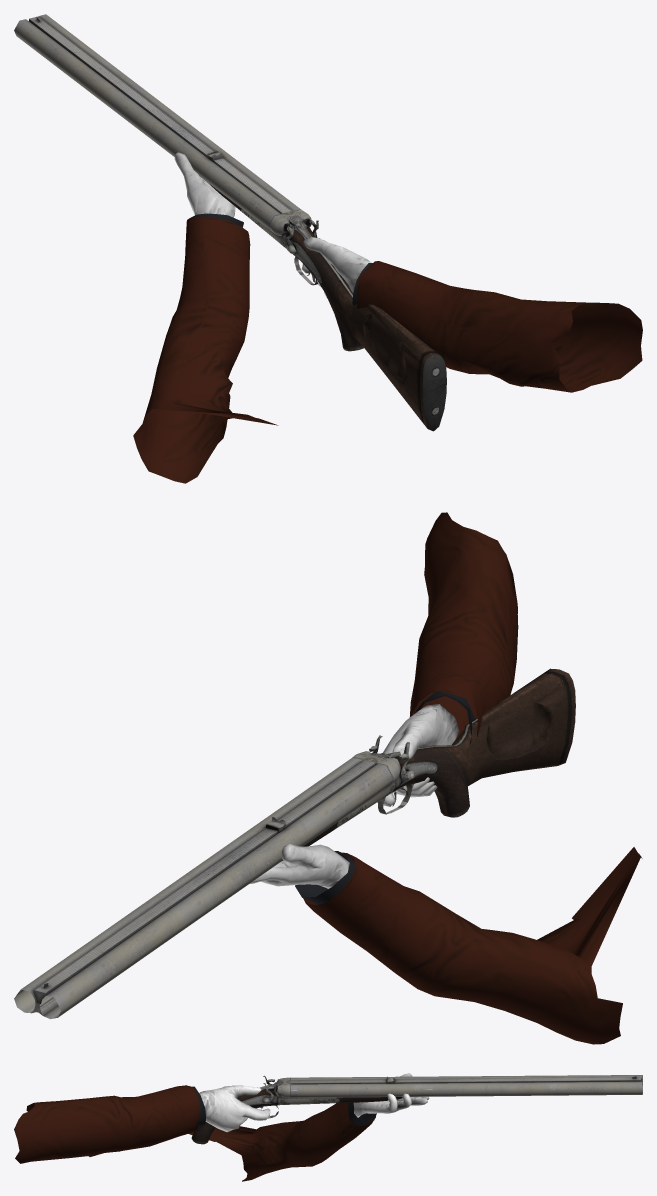
The model's file is frame_17.obj.
3 renders of one model, top to bottom at view 1: azimuth 30°, elevation 25°; view 2: azimuth 150°, elevation 25°; view 3: azimuth 270°, elevation 25°, orthographic. The views are drawn at different scales.
Parts seen in each view (by area): view 1: PlayerModelMerged.001_PlayerModelMerged, double_-_barreled_shotgun_L_double_-_barreled_shotgun_LP_к.001; view 2: PlayerModelMerged.001_PlayerModelMerged, double_-_barreled_shotgun_L_double_-_barreled_shotgun_LP_к.001; view 3: PlayerModelMerged.001_PlayerModelMerged, double_-_barreled_shotgun_L_double_-_barreled_shotgun_LP_к.001.
Part boxes in pixels (left/top/right/bottom): PlayerModelMerged.001_PlayerModelMerged: left=133, top=152, right=642, bottom=483; double_-_barreled_shotgun_L_double_-_barreled_shotgun_LP_к.001: left=14, top=14, right=446, bottom=431; PlayerModelMerged.001_PlayerModelMerged: left=249, top=512, right=642, bottom=1044; double_-_barreled_shotgun_L_double_-_barreled_shotgun_LP_к.001: left=14, top=668, right=575, bottom=1019; PlayerModelMerged.001_PlayerModelMerged: left=14, top=1073, right=429, bottom=1181; double_-_barreled_shotgun_L_double_-_barreled_shotgun_LP_к.001: left=88, top=1075, right=642, bottom=1156.
Bounding box in the file's own units: 0.8331 × 0.5543 × 2.
